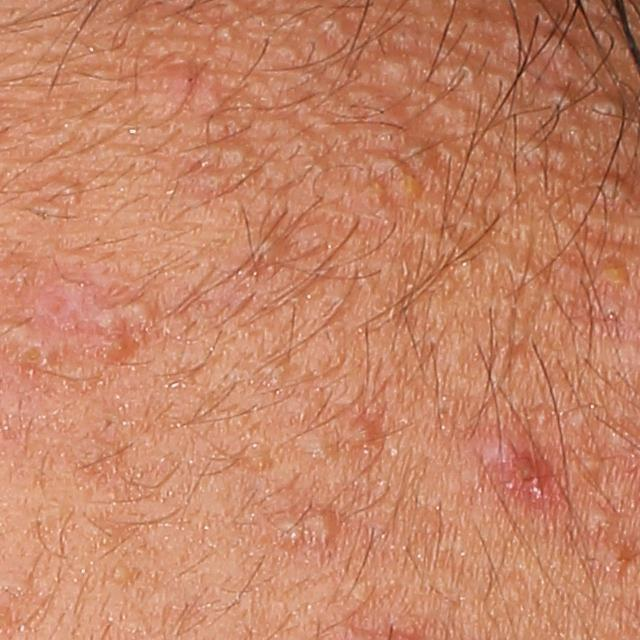comedo: (275, 512, 339, 548), (150, 66, 195, 117), (512, 135, 563, 171), (341, 404, 380, 449), (212, 141, 252, 178), (536, 29, 573, 69), (589, 172, 626, 211), (372, 53, 411, 87), (38, 178, 82, 208), (584, 507, 616, 542), (255, 227, 280, 269), (599, 547, 633, 576), (209, 21, 239, 51), (318, 7, 346, 38), (308, 433, 334, 462), (200, 86, 222, 120), (128, 294, 154, 321), (111, 562, 136, 587)
papule: (484, 433, 551, 503), (9, 322, 65, 370), (82, 323, 135, 365)
